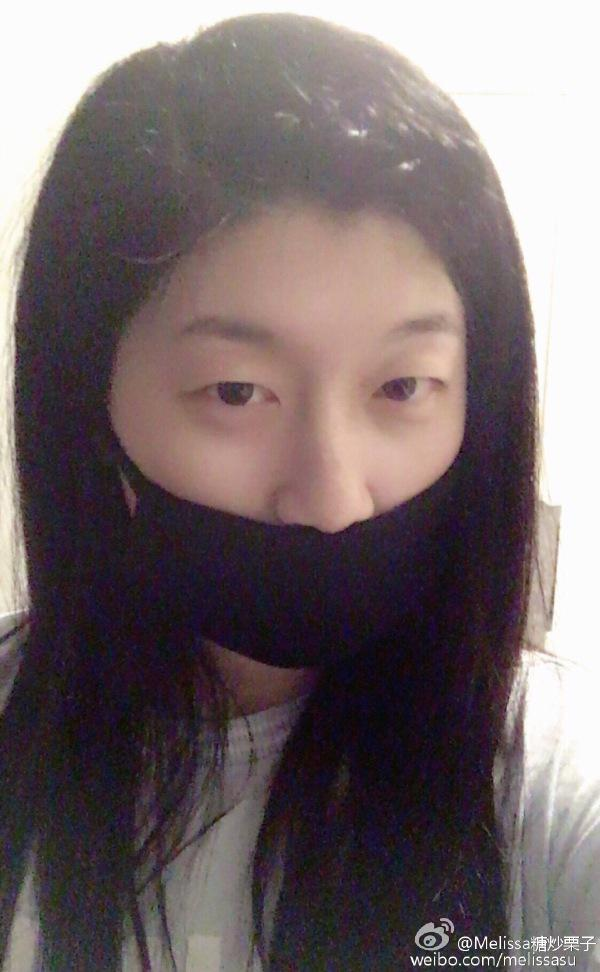WRONG: (136, 268, 466, 675)
